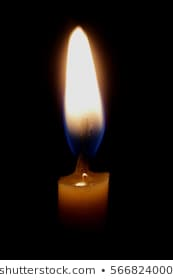Fire: (60, 23, 107, 157)
